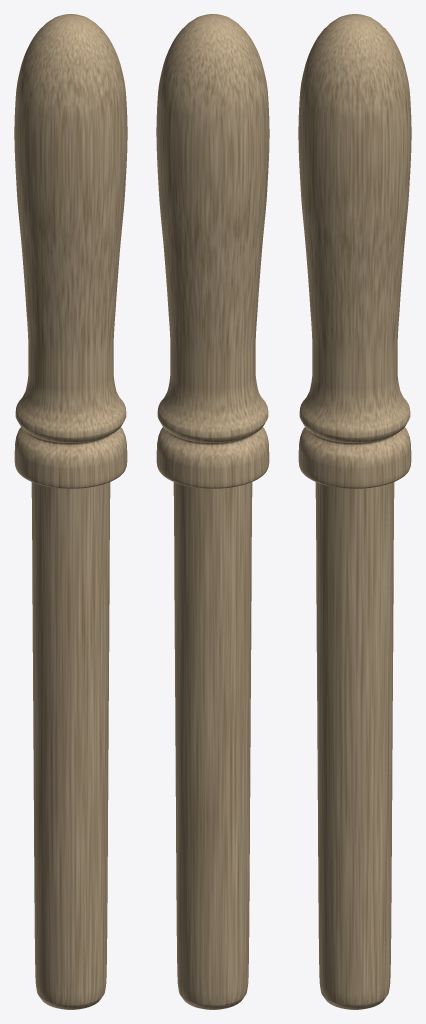
3 views of the same model, side by side, from view 1: azimuth 90°, elevation 25°; view 2: azimuth 150°, elevation 25°; view 3: azimuth 270°, elevation 25° (orthographic).
Visible parts, largest first — view 1: NEW675_LOD0; view 2: NEW675_LOD0; view 3: NEW675_LOD0.
Boxes of the visible parts, x1=… form: NEW675_LOD0: x1=14, y1=14, x2=127, y2=1009; NEW675_LOD0: x1=156, y1=14, x2=269, y2=1009; NEW675_LOD0: x1=298, y1=14, x2=411, y2=1009.
Bounding box in the file's own units: 0.0265 × 0.255 × 0.0265.
1 material, 1 textured.
